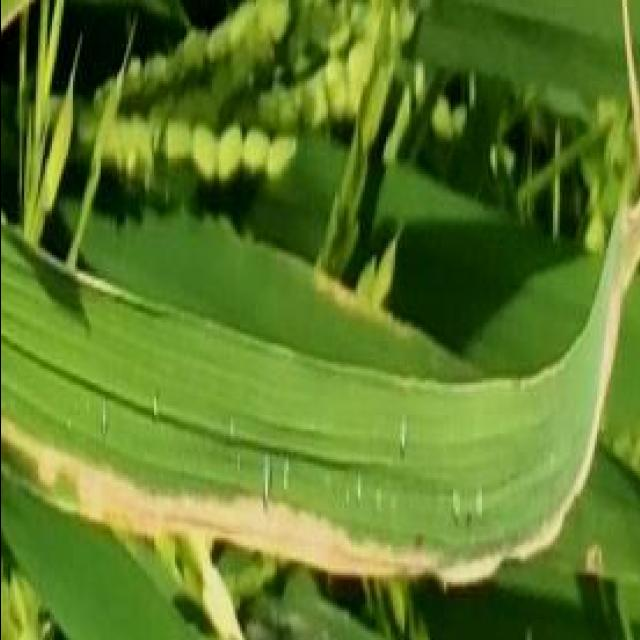Bacterial_Leaf_Blight: (81, 357, 582, 587)
